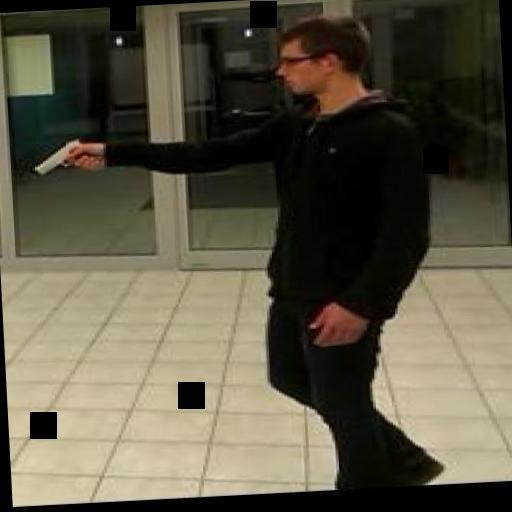Handgun: (23, 134, 102, 178)
